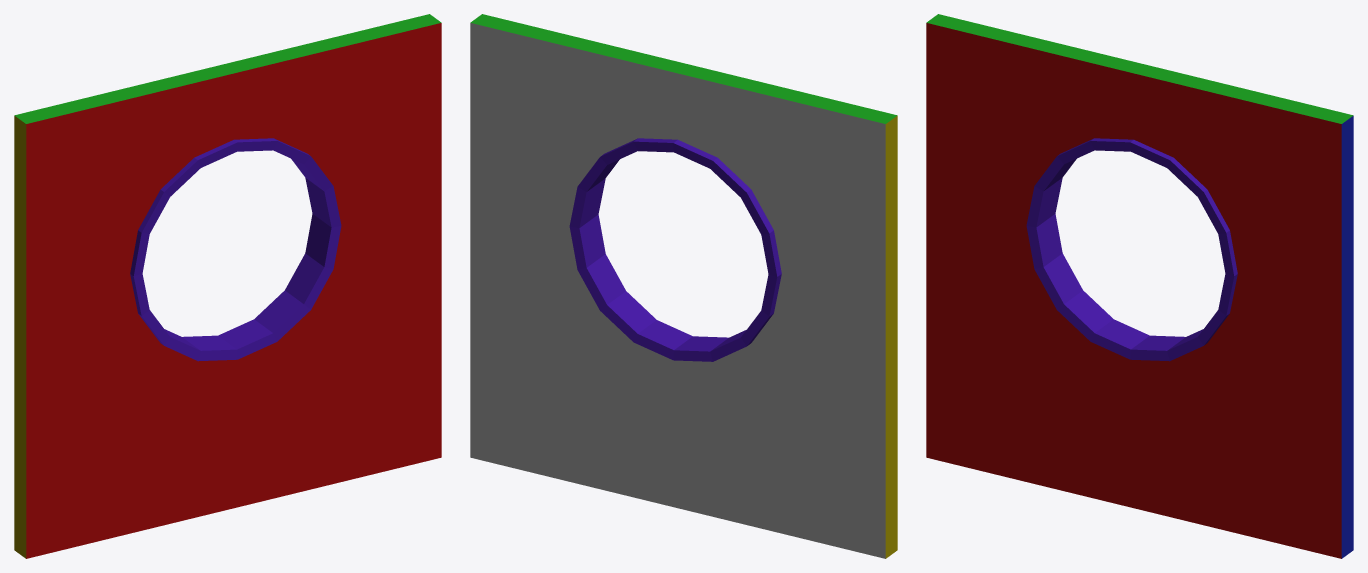
The model's file is Wall_Window_08b.fbx.
3 renders of one model, left to right at view 1: azimuth 30°, elevation 25°; view 2: azimuth 150°, elevation 25°; view 3: azimuth 330°, elevation 25°, orthographic.
Parts seen in each view (by area): view 1: Wall_Window_08b; view 2: Wall_Window_08b; view 3: Wall_Window_08b.
Part boxes in pixels (x1,y1,x2,y2): Wall_Window_08b: (14,14,441,558); Wall_Window_08b: (470,14,897,558); Wall_Window_08b: (926,14,1353,558).
Size of the model in its own units: 3 by 0.2525 by 3.
